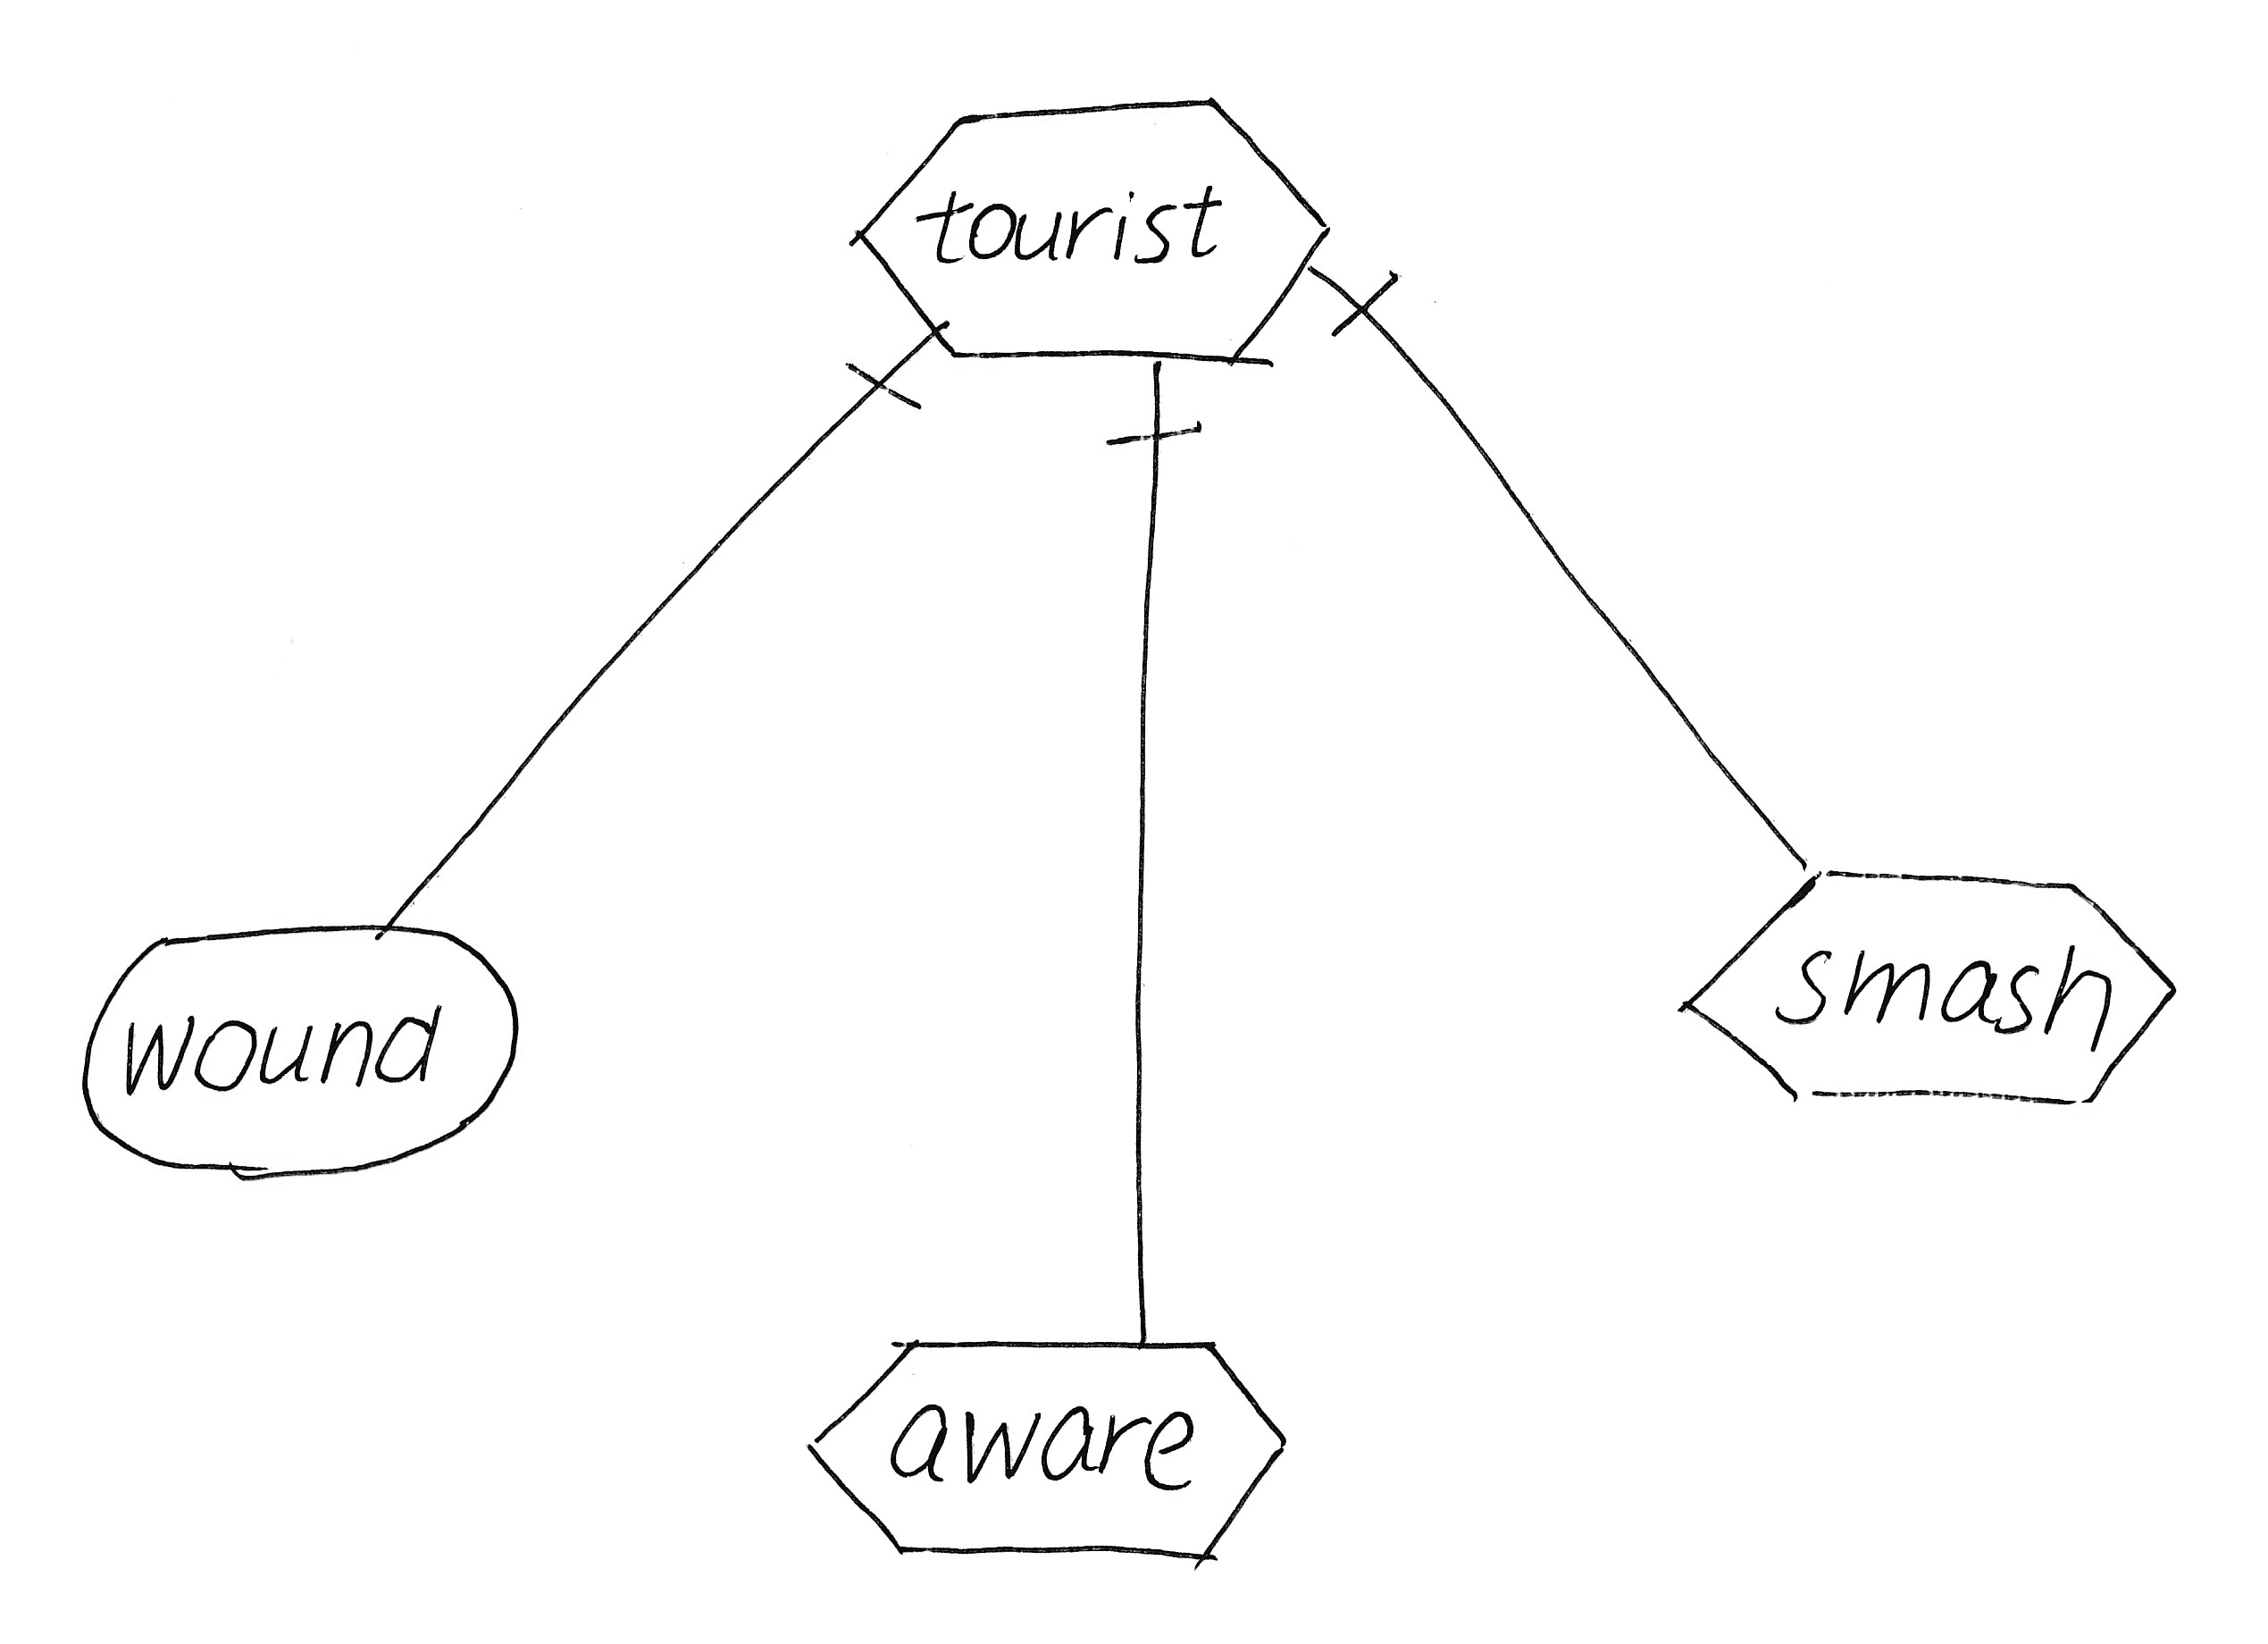and: (1101, 347, 1213, 470), (1294, 240, 1407, 356), (840, 317, 961, 419)
goal: (60, 902, 539, 1189)
task: (840, 81, 1347, 384), (1653, 846, 2196, 1124), (796, 1313, 1294, 1588)
